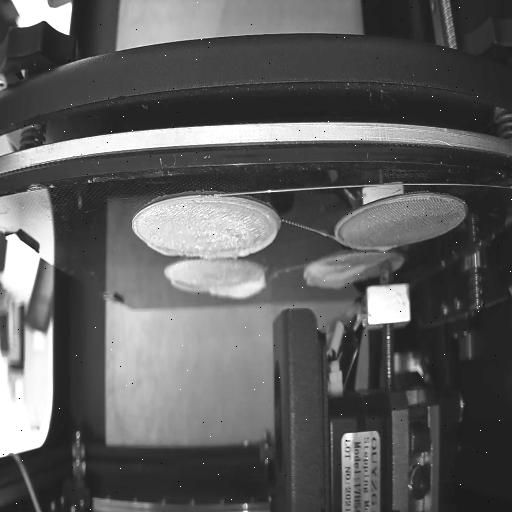over_extrusion: (208, 196, 278, 262), (301, 258, 363, 292), (208, 273, 270, 301), (146, 239, 180, 261), (171, 279, 203, 297), (375, 242, 395, 252)
